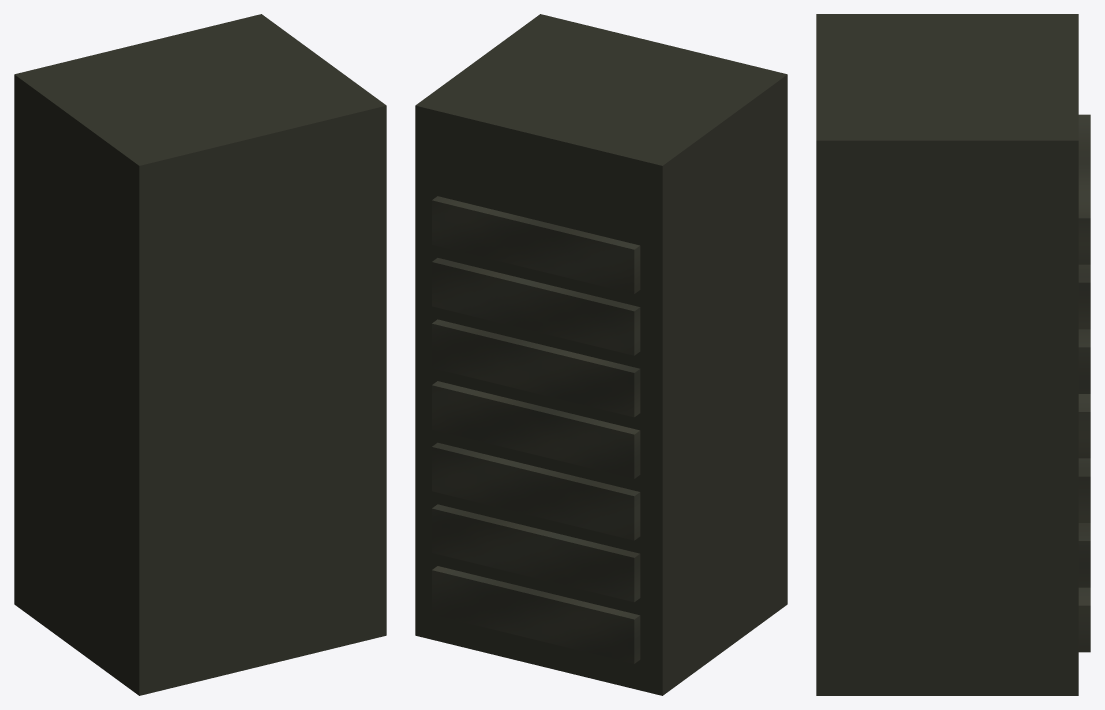
The model's file is prop_server_rack_bunker_a.glb.
3 renders of one model, left to right at view 1: azimuth 30°, elevation 25°; view 2: azimuth 150°, elevation 25°; view 3: azimuth 270°, elevation 25°, orthographic. The views are drawn at different scales.
Visible parts, largest first — view 1: prop_server_rack_bunker_a; view 2: prop_server_rack_bunker_a; view 3: prop_server_rack_bunker_a.
Part boxes in pixels (x1,y1,x2,y2): prop_server_rack_bunker_a: (14, 14, 386, 695); prop_server_rack_bunker_a: (415, 14, 787, 695); prop_server_rack_bunker_a: (816, 14, 1090, 695).
Size of the model in its own units: 1.05 by 2.15 by 0.9625.
Materials: 1 (1 with a texture image).
